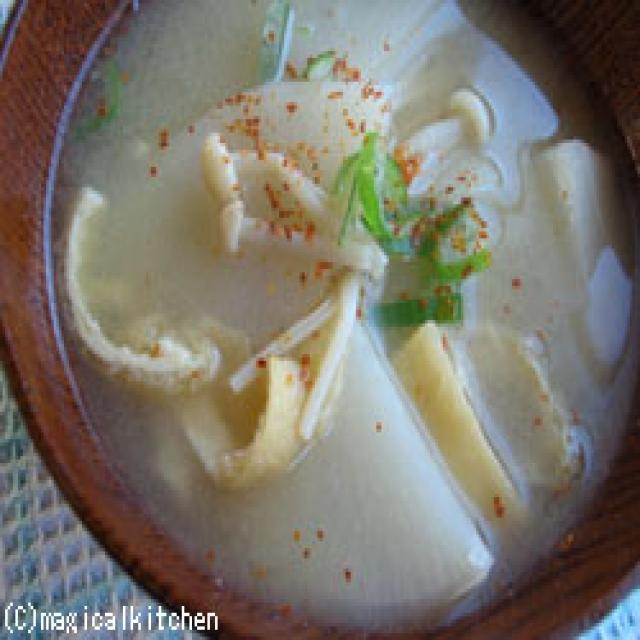汤锅炖物: (0, 0, 640, 592)
